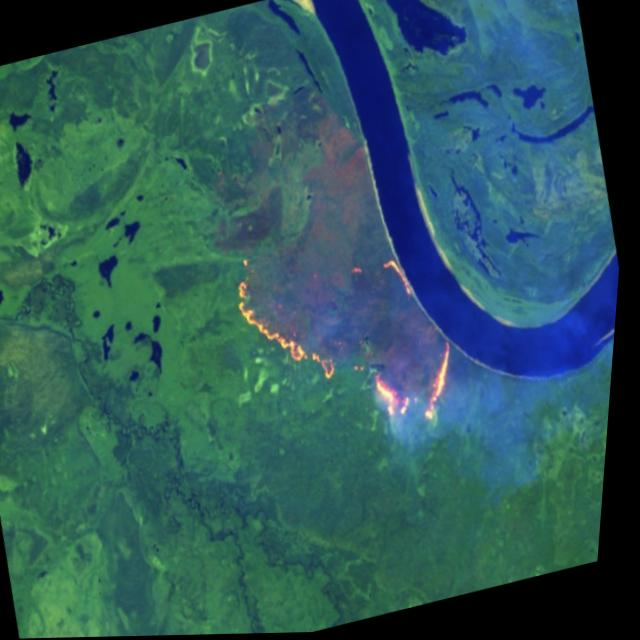fire: (209, 203, 482, 468)
